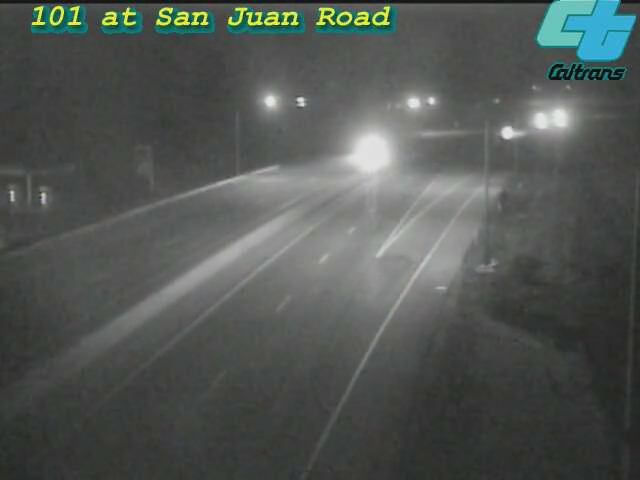vehicle: (345, 125, 395, 175), (483, 108, 533, 158), (512, 95, 562, 145), (534, 94, 584, 144)
